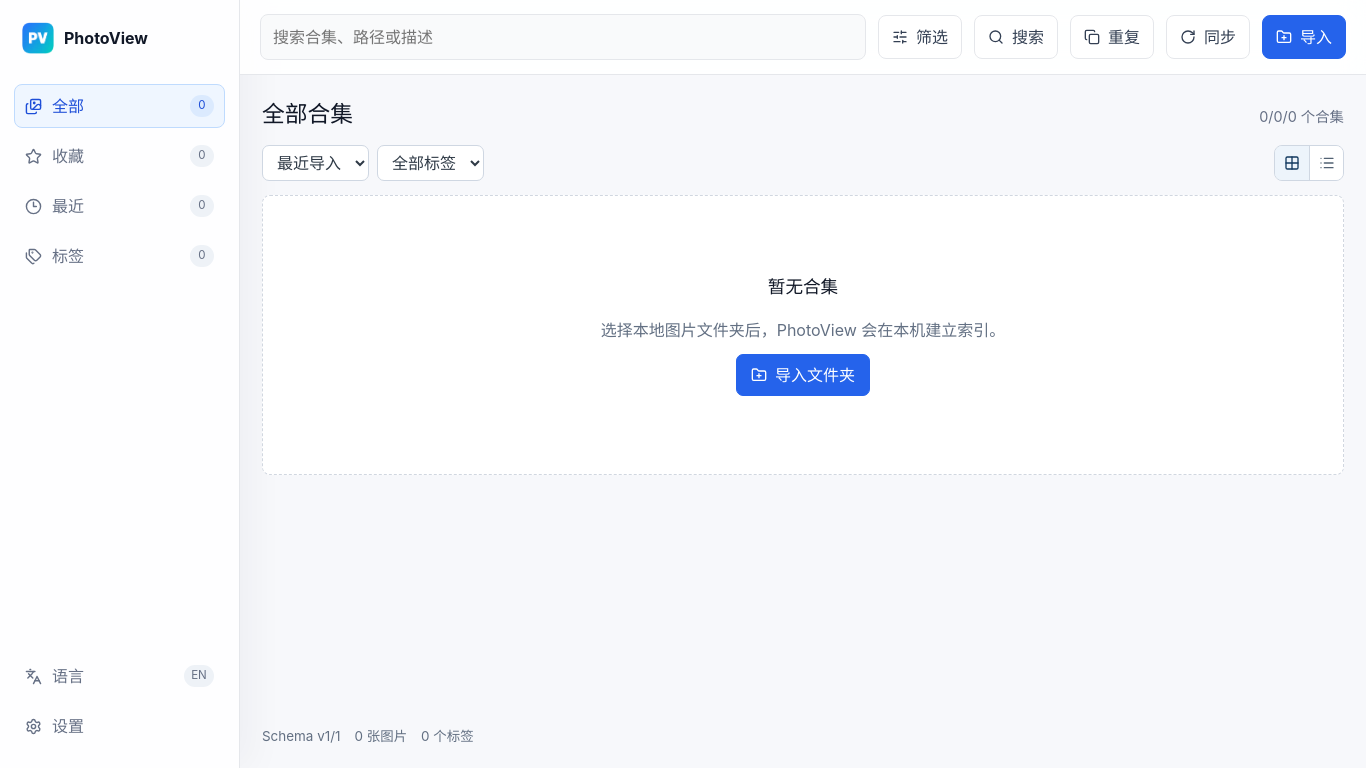
Test: App › switches sidebar navigation views
Click the button "收藏 0": (120, 156) [14,134,225,178]
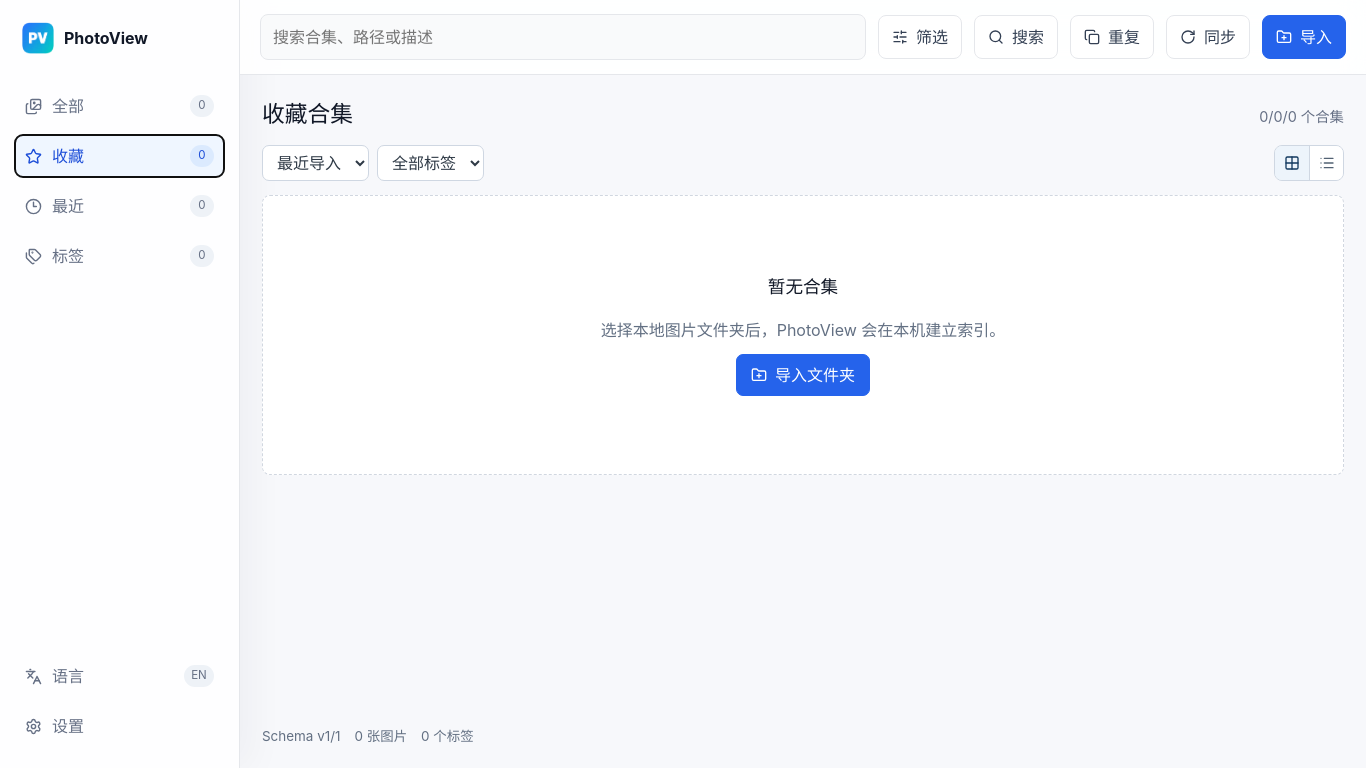
Expected: the heading "收藏合集" is shown, [262,97,353,131]
Click the button "最近 0": (120, 206) [14,184,225,228]
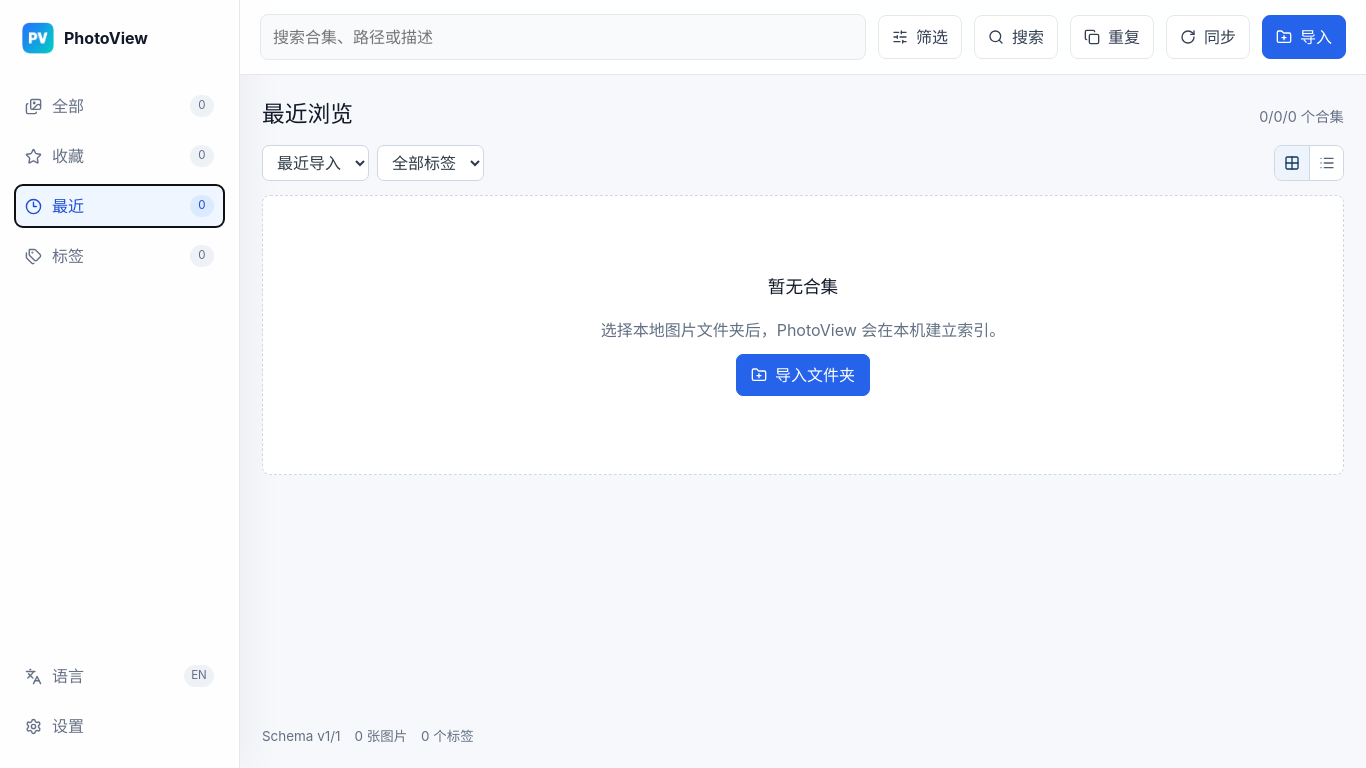
Expected: the heading "最近浏览" is shown, [262,97,353,131]
Click the button "标签 0": (120, 256) [14,234,225,278]
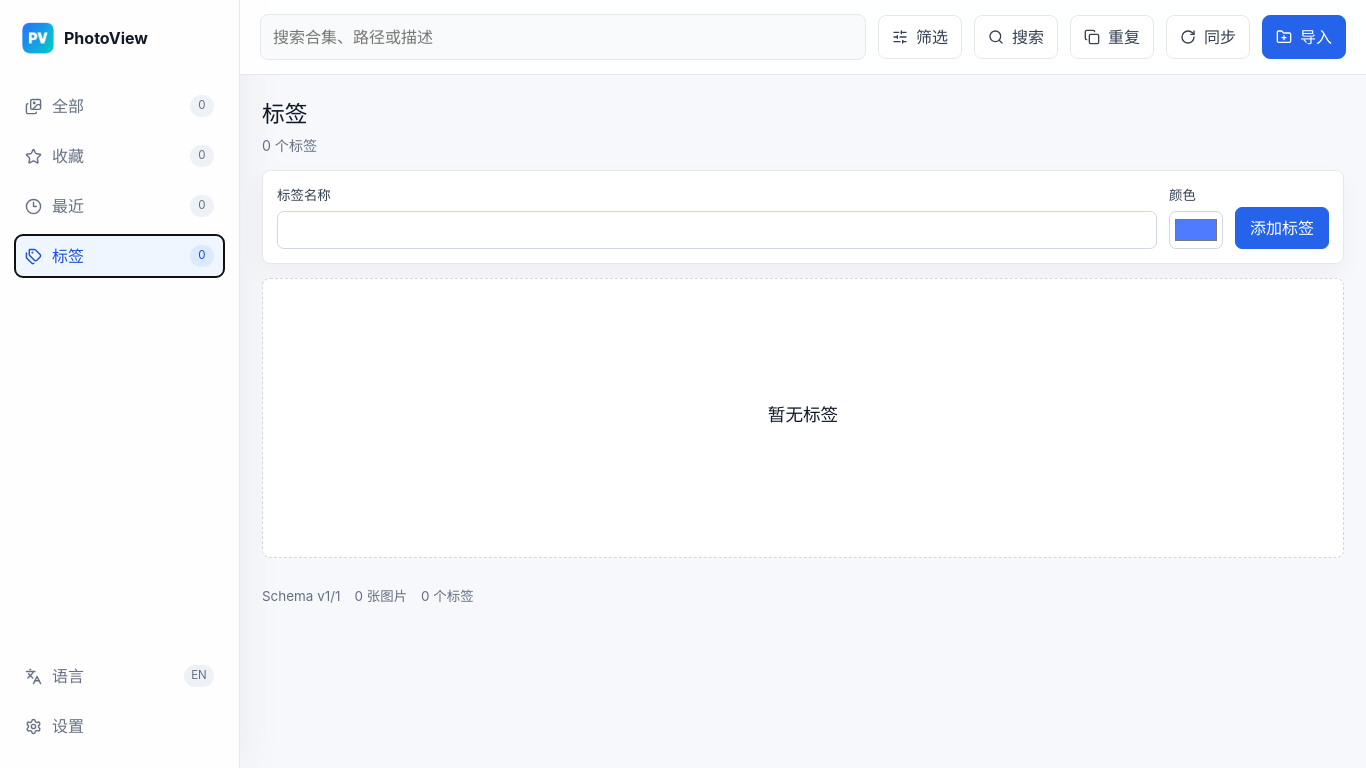
Expected: the heading "标签" is shown, [262,100,307,127]
